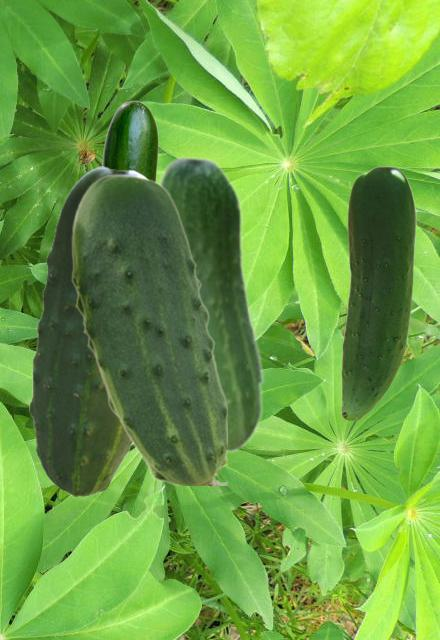cucumber: (71, 173, 226, 484), (29, 166, 145, 496), (156, 154, 264, 452), (341, 166, 415, 420), (101, 100, 159, 179)
